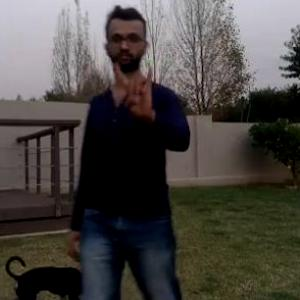takeoff-hand: (110, 56, 157, 121)
